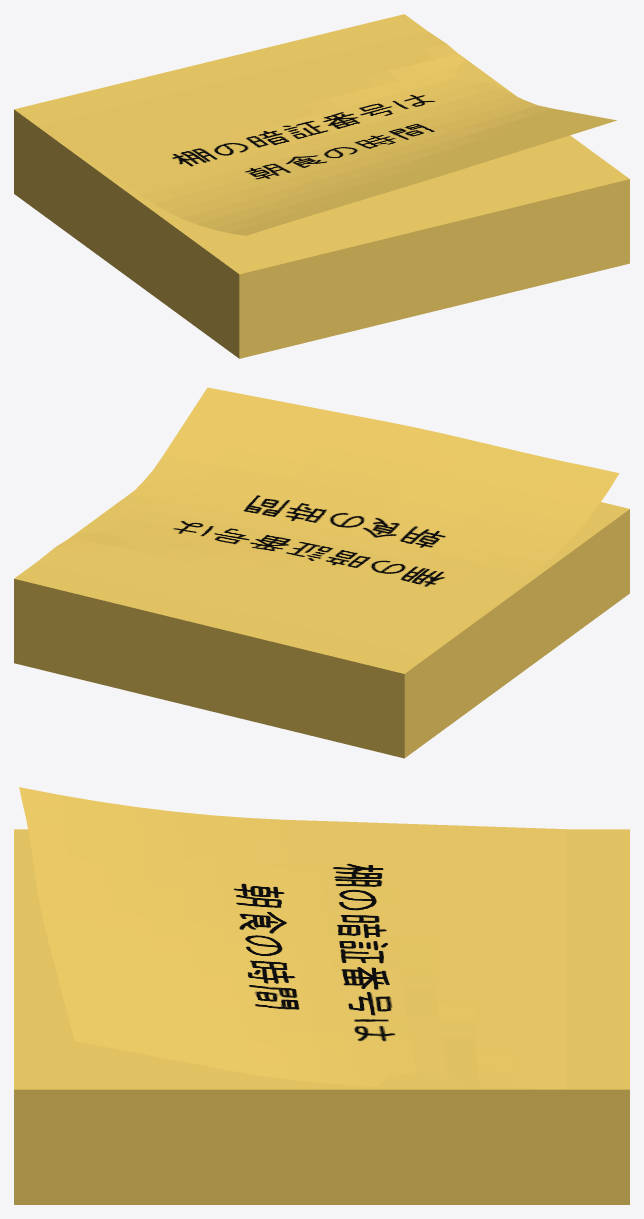
File: Memo.fbx
3 renders of one model, top to bottom at view 1: azimuth 30°, elevation 25°; view 2: azimuth 150°, elevation 25°; view 3: azimuth 270°, elevation 25°, orthographic. The views are drawn at different scales.
Parts seen in each view (by area): view 1: 立方体, 平面; view 2: 平面, 立方体; view 3: 平面, 立方体.
Boxes of the visible parts, x1=… form: 立方体: x1=14, y1=14, x2=629, y2=358; 平面: x1=37, y1=31, x2=616, y2=235; 平面: x1=37, y1=387, x2=619, y2=656; 立方体: x1=14, y1=491, x2=629, y2=758; 平面: x1=19, y1=787, x2=566, y2=1089; 立方体: x1=14, y1=829, x2=629, y2=1204.
Bounding box in the file's own units: 2.05 × 0.6097 × 2.
Materials: 2 (2 with a texture image).
